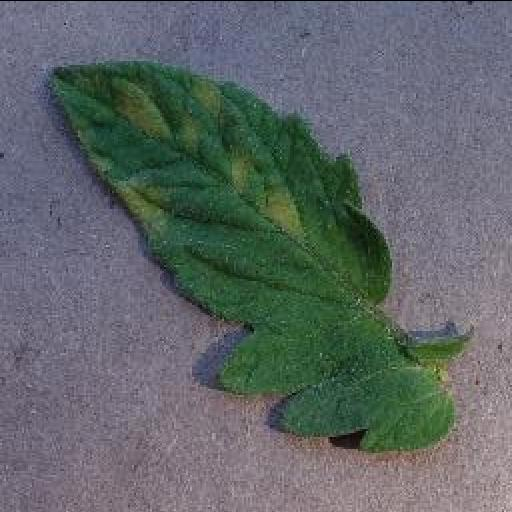disease_tomato: (44, 58, 458, 452)
